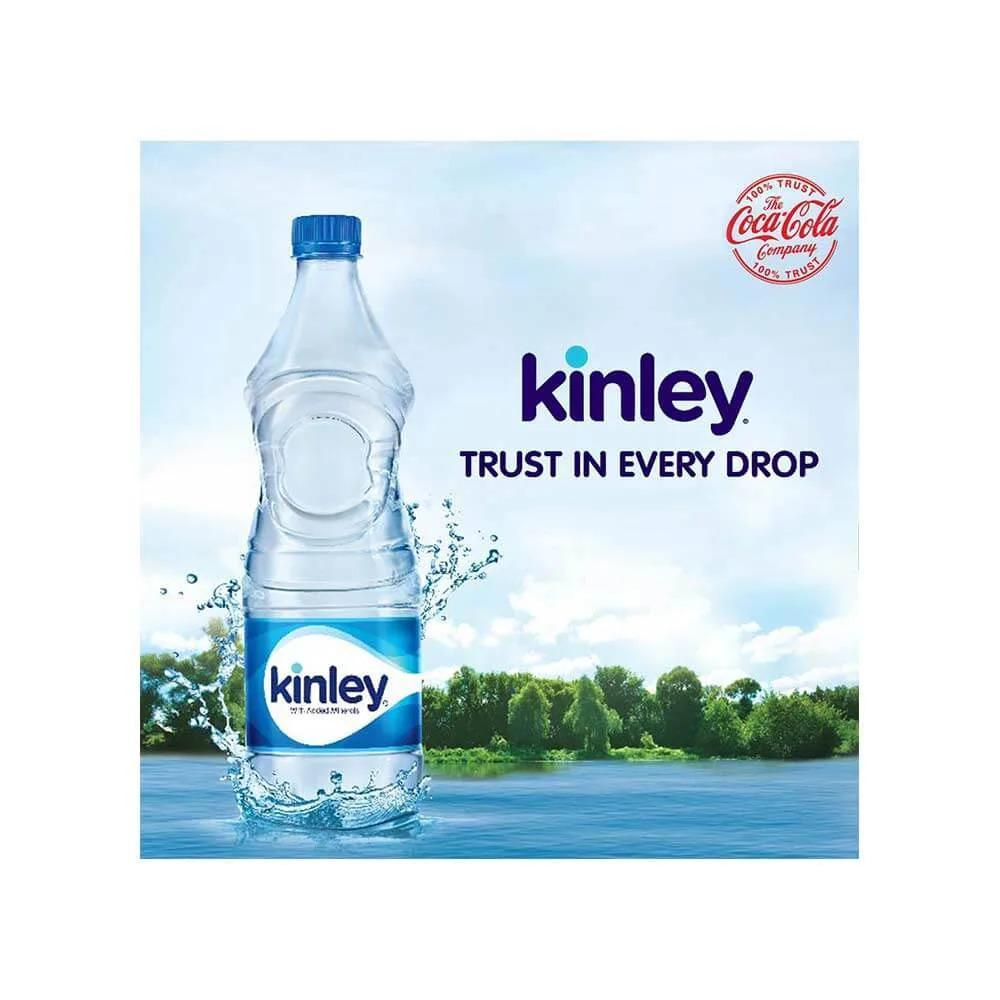bottle: (235, 188, 440, 832)
